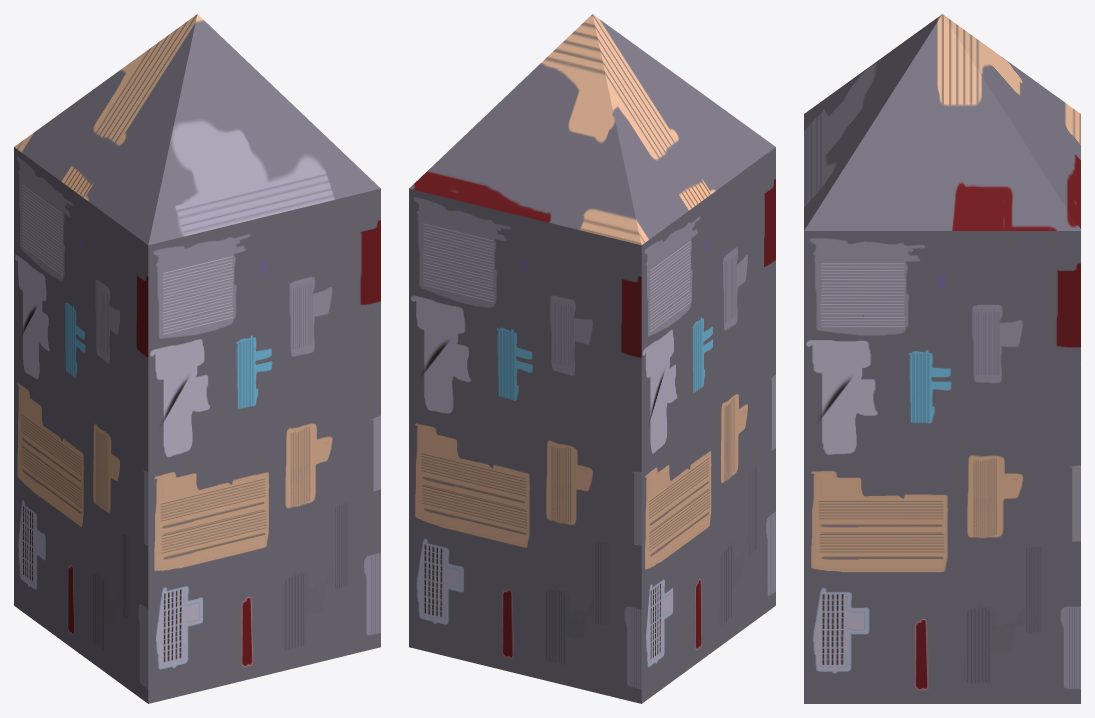
File: PyramidBuilding_Mesh.fbx
3 views of the same model, side by side, from view 1: azimuth 30°, elevation 25°; view 2: azimuth 150°, elevation 25°; view 3: azimuth 270°, elevation 25° (orthographic). The views are drawn at different scales.
Parts seen in each view (by area): view 1: Cube.001; view 2: Cube.001; view 3: Cube.001.
Boxes of the visible parts, bbox=[...] form: Cube.001: bbox=[14, 14, 380, 703]; Cube.001: bbox=[409, 14, 775, 703]; Cube.001: bbox=[804, 14, 1080, 703].
Size of the model in its own units: 582 by 1463 by 582.
1 material, 1 textured.
